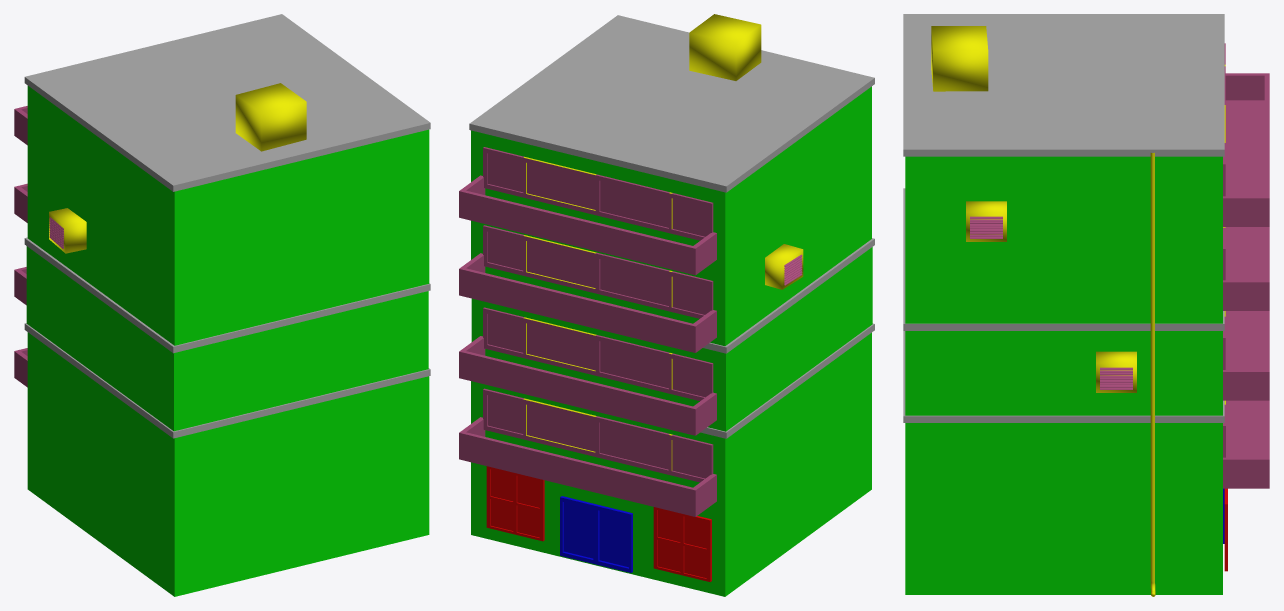
Rendered from Hotel_1_prebuilt_1.fbx.
3 renders of one model, left to right at view 1: azimuth 30°, elevation 25°; view 2: azimuth 150°, elevation 25°; view 3: azimuth 270°, elevation 25°, orthographic. The views are drawn at different scales.
Visible parts, largest first — view 1: polySurface139; view 2: polySurface139; view 3: polySurface139.
Boxes of the visible parts, left/top/right/bottom form: polySurface139: left=14, top=14, right=430, bottom=596; polySurface139: left=459, top=14, right=874, bottom=596; polySurface139: left=903, top=14, right=1269, bottom=596.
Bounding box in the file's own units: 1170 × 1690 × 1152.
